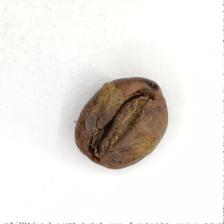NG: (83, 81, 160, 162)
